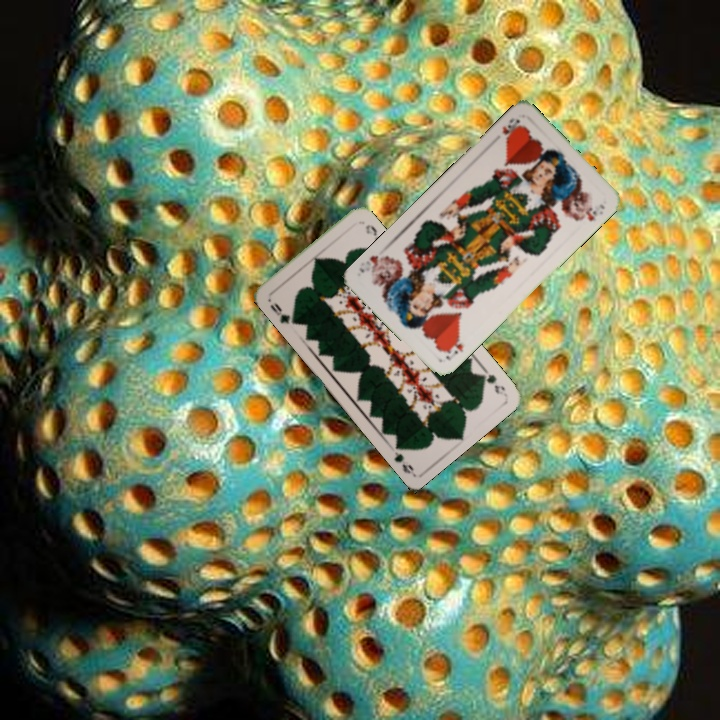G9: (476, 363, 508, 396), (266, 298, 298, 327)
HO: (498, 113, 524, 145), (440, 332, 466, 363)
